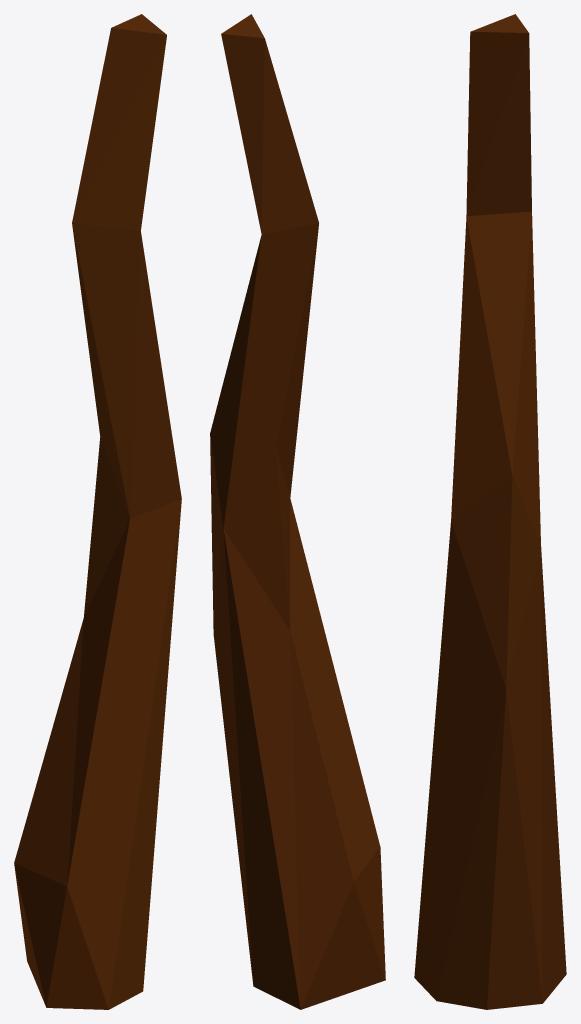
The model's file is LowPoly_Trunk1.fbx.
The picture shows the model from 3 angles, left to right: view 1: azimuth 30°, elevation 25°; view 2: azimuth 150°, elevation 25°; view 3: azimuth 270°, elevation 25°; orthographic projection. The views are drawn at different scales.
Parts seen in each view (by area): view 1: Cylinder; view 2: Cylinder; view 3: Cylinder.
Boxes of the visible parts, bbox=[...] form: Cylinder: bbox=[14, 14, 181, 1009]; Cylinder: bbox=[210, 14, 385, 1009]; Cylinder: bbox=[414, 14, 566, 1009].
Size of the model in its own units: 126 by 756 by 105.
